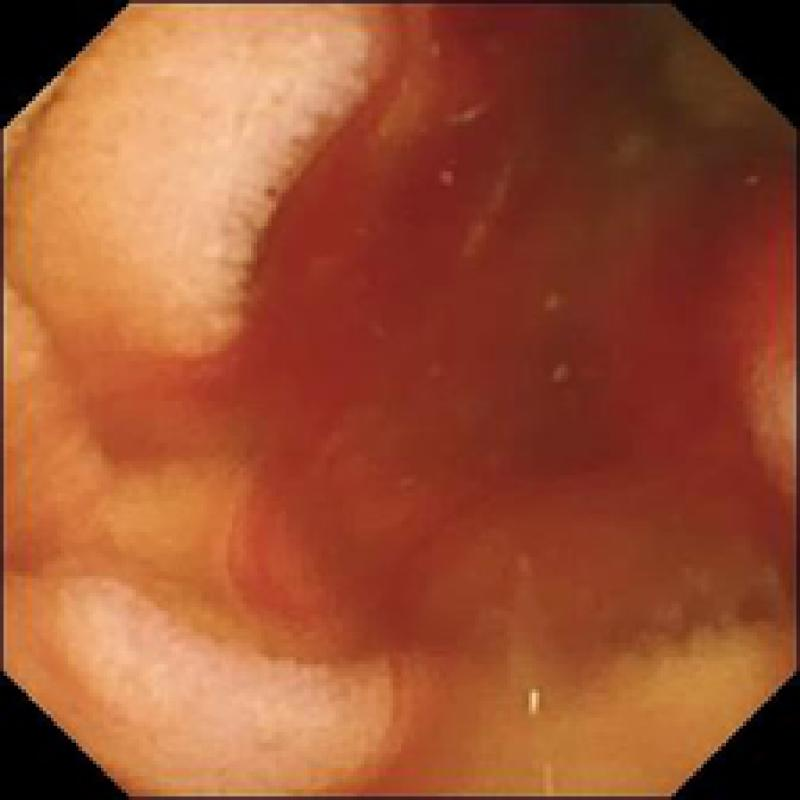bleeding: (89, 0, 800, 668)
